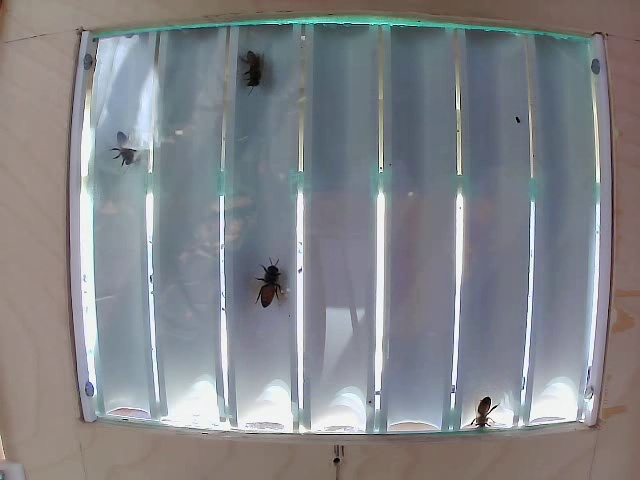bee: (231, 46, 284, 99), (105, 132, 157, 172), (256, 261, 291, 312)
